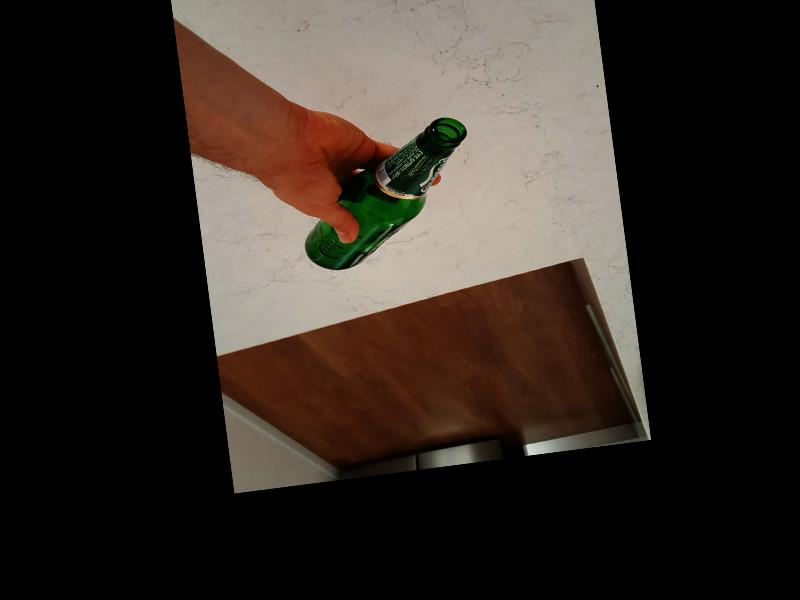Beer: (292, 112, 483, 273)
